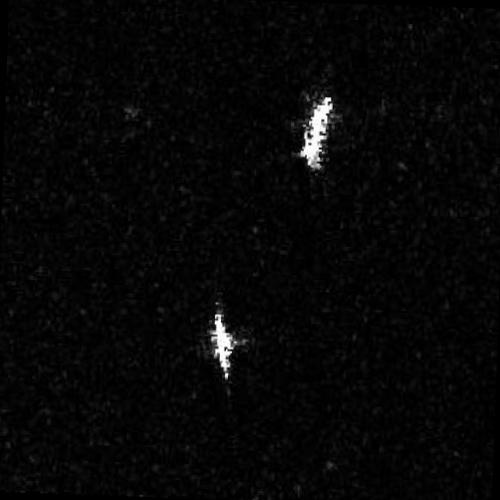ship: (299, 91, 334, 171), (211, 309, 232, 381)
